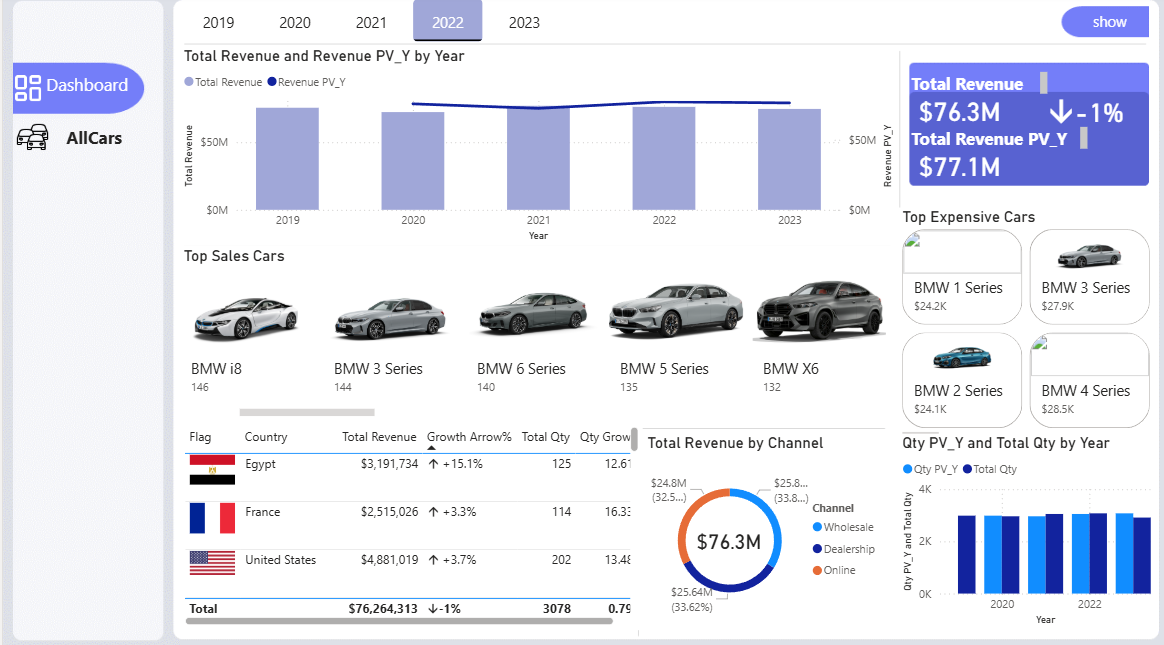

The dashboard page shown, as its layout file describes it:
{"tool":"powerbi","page":{"name":"Dashboard","canvas":[1280,720],"ordinal":0},"visuals":[{"type":"advancedSlicerVisual","fields":{"Values":["DimDate.Year"]},"box":[193.5,0,426.8,56.3],"z":0},{"type":"shape","box":[953.7,54.9,326.6,247],"z":0,"group":"g1"},{"type":"lineClusteredColumnComboChart","fields":{"Y":["Measuress.Total Revenue"],"Category":["DimDate.Year"],"Y2":["Measuress.Revenue PV_Y"]},"box":[193.5,56.3,789,219.6],"z":1000},{"type":"slicer","fields":{"Values":["DimDate.Month"]},"box":[968.8,68.6,149.6,87.8],"z":1000,"group":"g1"},{"type":"slicer","fields":{"Values":["Countries with Flags URL.Region"]},"box":[1123.9,68.6,149.6,87.8],"z":2000,"group":"g1"},{"type":"advancedSlicerVisual","title":"Top Sales Cars","fields":{"Values":["Dim Model.Model"]},"box":[193.5,275.8,789,193.5],"z":2000},{"type":"slicer","fields":{"Values":["Countries with Flags URL.Country"]},"box":[1117,152.3,149.6,87.8],"z":3000,"group":"g1"},{"type":"advancedSlicerVisual","title":"Top Expensive Cars","fields":{"Values":["Dim Model.Model"]},"box":[982.5,233.3,282.7,262.1],"z":3000},{"type":"textbox","box":[42.5,81,105.7,43.9],"z":4000},{"type":"actionButton","box":[972.9,244.3,141.3,39.8],"z":4000,"group":"g1"},{"type":"image","box":[0,85.1,54.9,34.3],"z":5000},{"type":"slicer","fields":{"Values":["Dim Channel.Channel"]},"box":[967.4,156.4,149.6,87.8],"z":5000,"group":"g1"},{"type":"textbox","box":[64.5,138.6,83.7,41.2],"z":6000},{"type":"actionButton","box":[1133.5,244.3,131.7,39.8],"z":6000,"group":"g1"},{"type":"image","box":[0,138.6,64.5,34.3],"z":7000},{"type":"actionButton","box":[9.6,71.4,149.6,53.5],"z":8000},{"type":"actionButton","box":[0,133.1,159.2,39.8],"z":9000},{"type":"clusteredColumnChart","fields":{"Category":["DimDate.Year"],"Y":["Measuress.Qty PV_Y","Measuress.Total Qty"]},"box":[982.5,481.6,282.7,215.4],"z":10000},{"type":"card","fields":{"Values":["Measuress.Total Revenue"]},"box":[992.1,96.1,116.6,60.4],"z":11000},{"type":"card","fields":{"Values":["Measuress.Revenue PV_Y"]},"box":[992.1,156.4,116.6,60.4],"z":12000},{"type":"textbox","box":[992.1,79.6,159.2,34.3],"z":13000},{"type":"textbox","box":[992.1,140,203.1,34.3],"z":14000},{"type":"card","fields":{"Values":["Measuress.Revenue Growth Arrow%"]},"box":[1123.8,97.4,129,60.4],"z":15000},{"type":"donutChart","fields":{"Y":["Measuress.Total Revenue"],"Category":["Dim Channel.Channel"]},"box":[702.6,481.6,269,215.4],"z":16000},{"type":"card","fields":{"Values":["Measuress.Total Revenue"]},"box":[745.1,562.6,104.3,74.1],"z":17000},{"type":"tableEx","fields":{"Values":["Dim Geography.Flag","Dim Geography.Country","Measuress.Total Revenue","Measuress.Revenue Growth Arrow%","Measuress.Total Qty","Measuress.Qty Growth"]},"box":[193.5,469.3,509.1,227.8],"z":18000},{"type":"actionButton","box":[1165,8.2,100.2,39.8],"z":19000},{"type":"group","id":"g1","title":"Group 1","box":[953.7,54.9,326.6,247],"z":20000}]}

Visuals, with their boxes on the page's 1280x720 design canvas (x1, y1, x2, y2). These are canvas units, not pixel positions in the 1164x645 screenshot, which may show the page scaled, cropped or inside an application window:
advancedSlicerVisual - DimDate.Year: [194,0,620,56]
shape: [954,55,1280,302]
lineClusteredColumnComboChart - Measuress.Total Revenue x DimDate.Year: [194,56,982,276]
slicer - DimDate.Month: [969,69,1118,156]
slicer - Countries with Flags URL.Region: [1124,69,1274,156]
"Top Sales Cars" advancedSlicerVisual: [194,276,982,469]
slicer - Countries with Flags URL.Country: [1117,152,1267,240]
"Top Expensive Cars" advancedSlicerVisual: [982,233,1265,495]
textbox: [42,81,148,125]
actionButton: [973,244,1114,284]
image: [0,85,55,119]
slicer - Dim Channel.Channel: [967,156,1117,244]
textbox: [64,139,148,180]
actionButton: [1134,244,1265,284]
image: [0,139,64,173]
actionButton: [10,71,159,125]
actionButton: [0,133,159,173]
clusteredColumnChart - DimDate.Year x Measuress.Qty PV_Y: [982,482,1265,697]
card - Measuress.Total Revenue: [992,96,1109,156]
card - Measuress.Revenue PV_Y: [992,156,1109,217]
textbox: [992,80,1151,114]
textbox: [992,140,1195,174]
card - Measuress.Revenue Growth Arrow%: [1124,97,1253,158]
donutChart - Measuress.Total Revenue x Dim Channel.Channel: [703,482,972,697]
card - Measuress.Total Revenue: [745,563,849,637]
tableEx - Dim Geography.Flag x Dim Geography.Country: [194,469,703,697]
actionButton: [1165,8,1265,48]
"Group 1" group: [954,55,1280,302]
